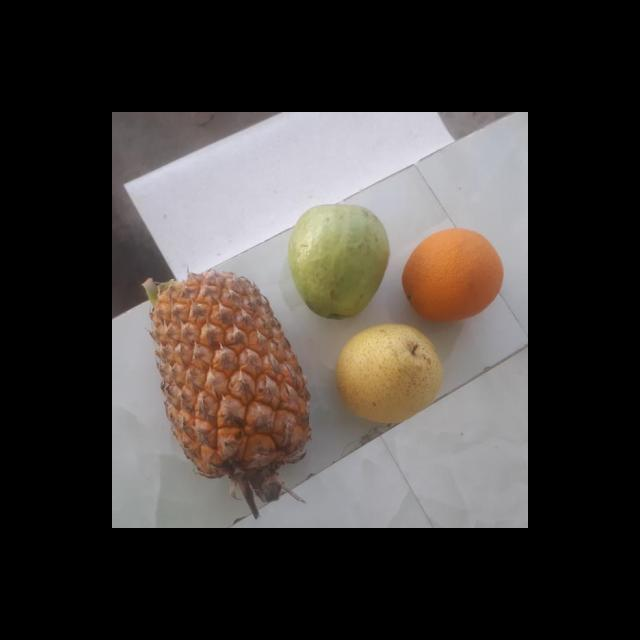guava: (282, 208, 387, 318)
orange: (399, 229, 506, 325)
pear: (332, 322, 446, 427)
pineapple: (143, 267, 303, 476)
